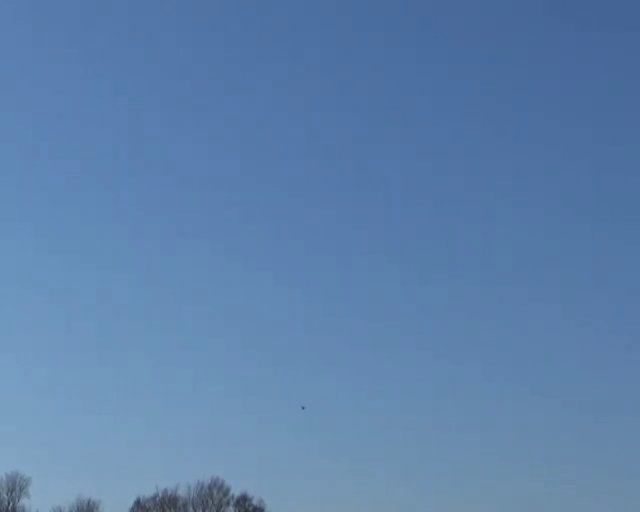BIRD: (299, 404, 307, 410)
